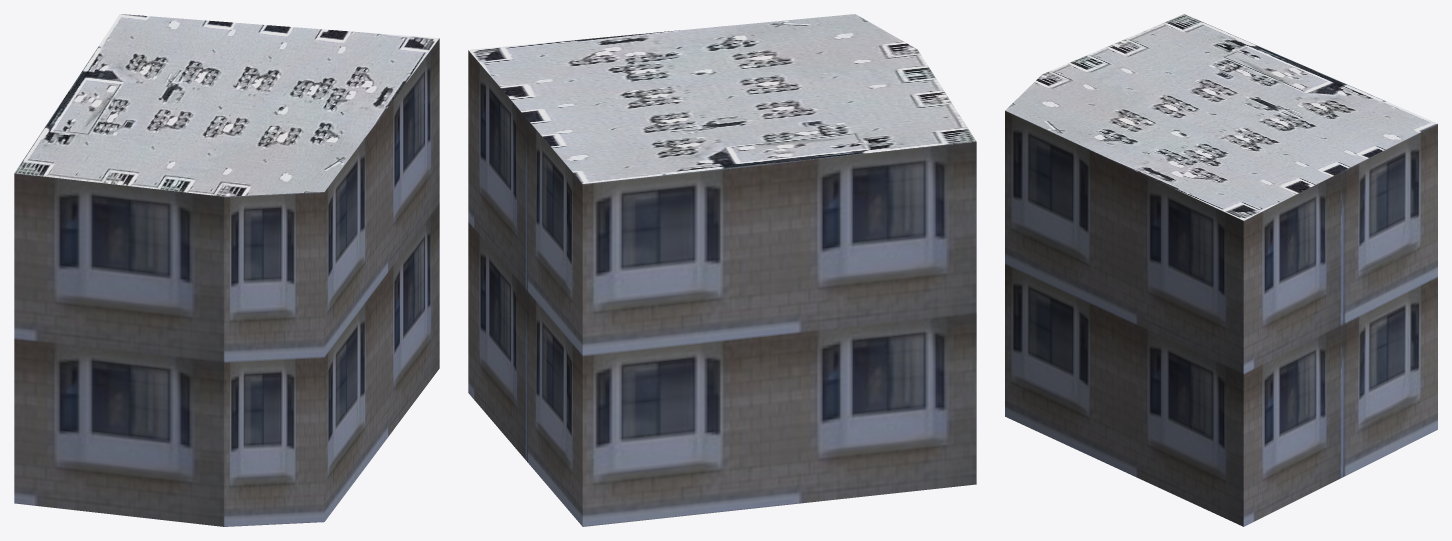
File: ResTex__26.fbx
The picture shows the model from 3 angles, left to right: view 1: azimuth 30°, elevation 25°; view 2: azimuth 150°, elevation 25°; view 3: azimuth 270°, elevation 25°; orthographic projection. The views are drawn at different scales.
Parts seen in each view (by area): view 1: CityEngineMaterial_3_m, CityEngineMaterial_m; view 2: CityEngineMaterial_3_m, CityEngineMaterial_m; view 3: CityEngineMaterial_3_m, CityEngineMaterial_m.
Part boxes in pixels (bbox=[...]): CityEngineMaterial_3_m: bbox=[14, 38, 439, 526]; CityEngineMaterial_m: bbox=[14, 14, 439, 196]; CityEngineMaterial_3_m: bbox=[468, 50, 976, 526]; CityEngineMaterial_m: bbox=[468, 14, 976, 183]; CityEngineMaterial_3_m: bbox=[1005, 110, 1437, 526]; CityEngineMaterial_m: bbox=[1005, 14, 1437, 220].
Size of the model in its own units: 8.7 by 6 by 7.69.
2 materials, 2 textured.
